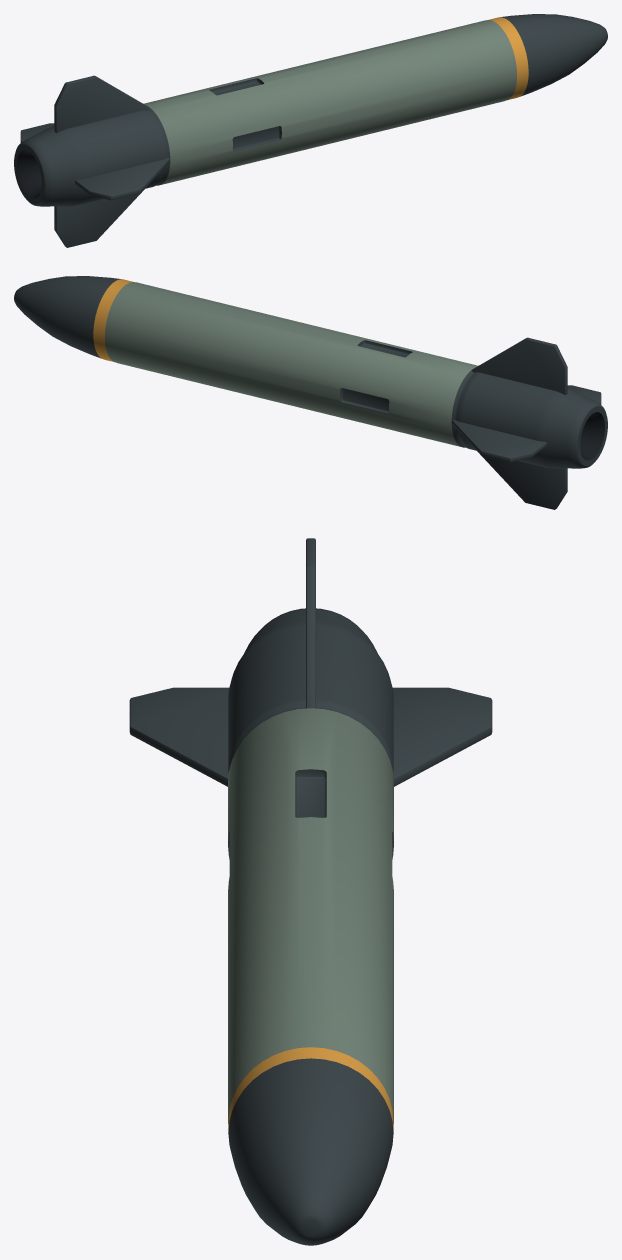
The model's file is SM_TopAttackRocket.fbx.
3 renders of one model, top to bottom at view 1: azimuth 30°, elevation 25°; view 2: azimuth 150°, elevation 25°; view 3: azimuth 270°, elevation 25°, orthographic. The views are drawn at different scales.
Visible parts, largest first — view 1: SM_TopAttackRocket; view 2: SM_TopAttackRocket; view 3: SM_TopAttackRocket.
Boxes of the visible parts, left/top/right/bottom form: SM_TopAttackRocket: left=14, top=14, right=607, bottom=247; SM_TopAttackRocket: left=14, top=276, right=607, bottom=509; SM_TopAttackRocket: left=129, top=538, right=492, bottom=1245.
Size of the model in its own units: 0.8 by 0.218 by 0.218.
